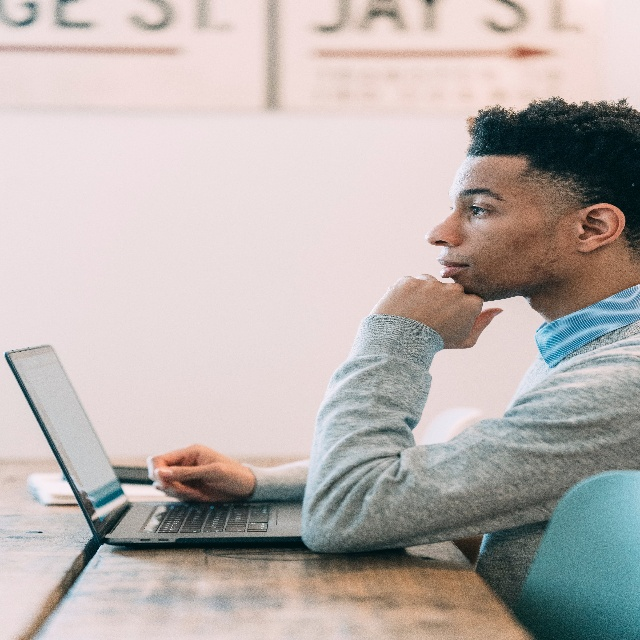Sin_guantes: (368, 275, 504, 350), (145, 443, 254, 508)
